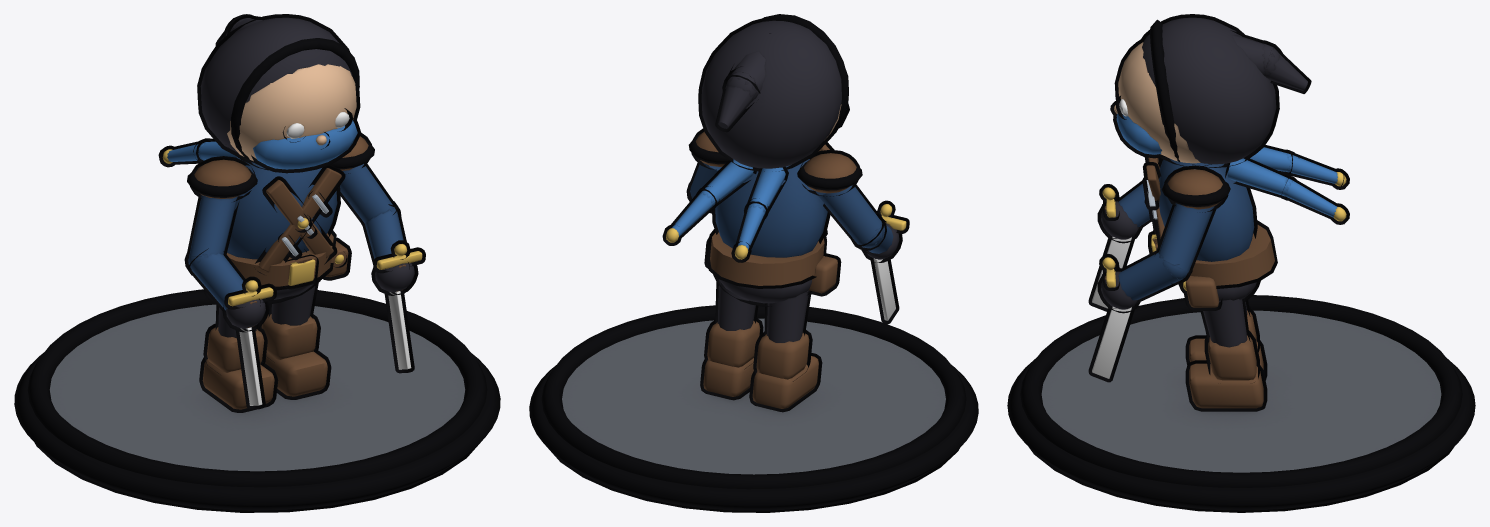
The model's file is shadow_assassin_s3.fbx.
The picture shows the model from 3 angles, left to right: view 1: azimuth 30°, elevation 25°; view 2: azimuth 150°, elevation 25°; view 3: azimuth 270°, elevation 25°; orthographic projection. The views are drawn at different scales.
Visible parts, largest first — view 1: shadow_assassin_s3; view 2: shadow_assassin_s3; view 3: shadow_assassin_s3.
Part boxes in pixels (bbox=[...]): shadow_assassin_s3: bbox=[14, 14, 500, 512]; shadow_assassin_s3: bbox=[529, 14, 978, 512]; shadow_assassin_s3: bbox=[1007, 14, 1475, 512].
Size of the model in its own units: 1.58 by 1.48 by 1.58.
Materials: 2 (1 with a texture image).
